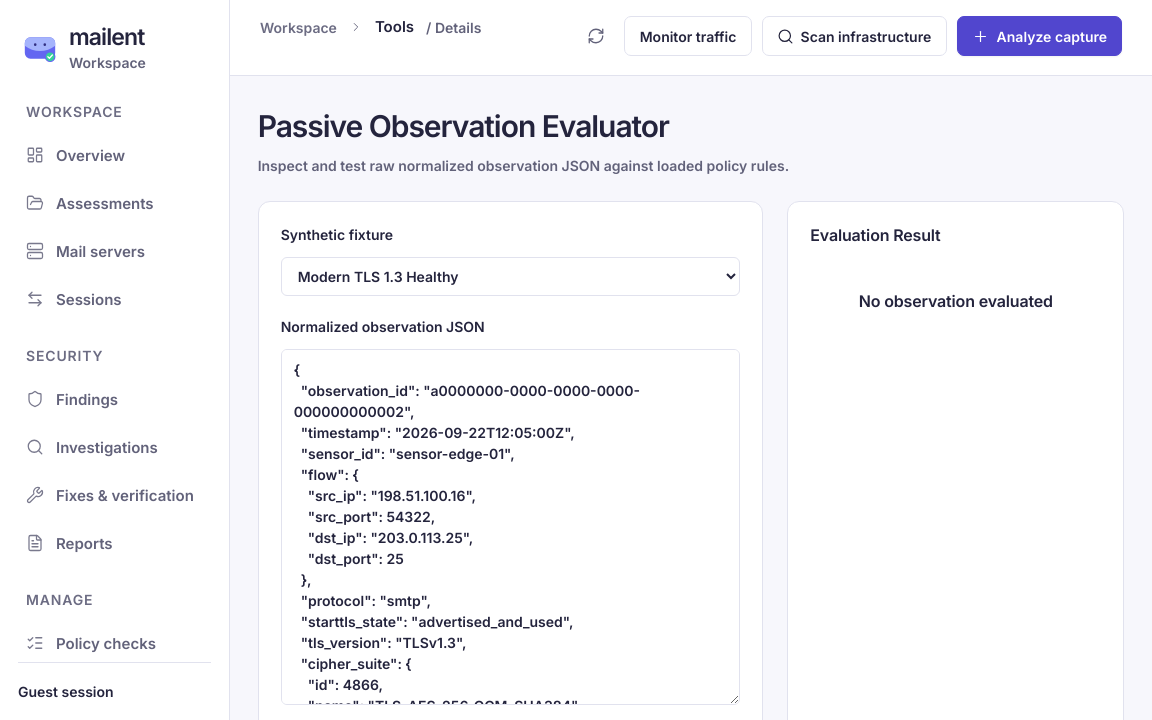
Test: observation console › renders a real response shape, clears stale results when input changes
Select "Modern TLS 1.3 Healthy" in the dropdown labelled "Synthetic fixture": (510, 276) [281,257,740,296]
(page scrolled)
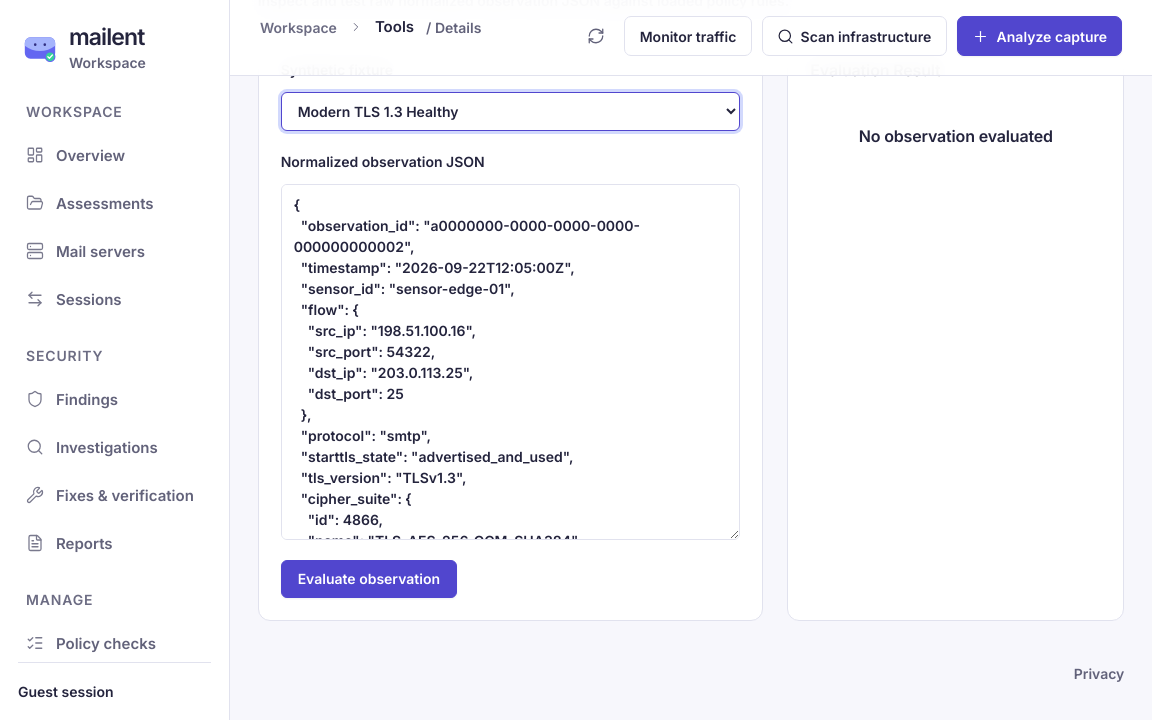
Click the button "Evaluate observation": click(369, 579) [281,560,457,598]
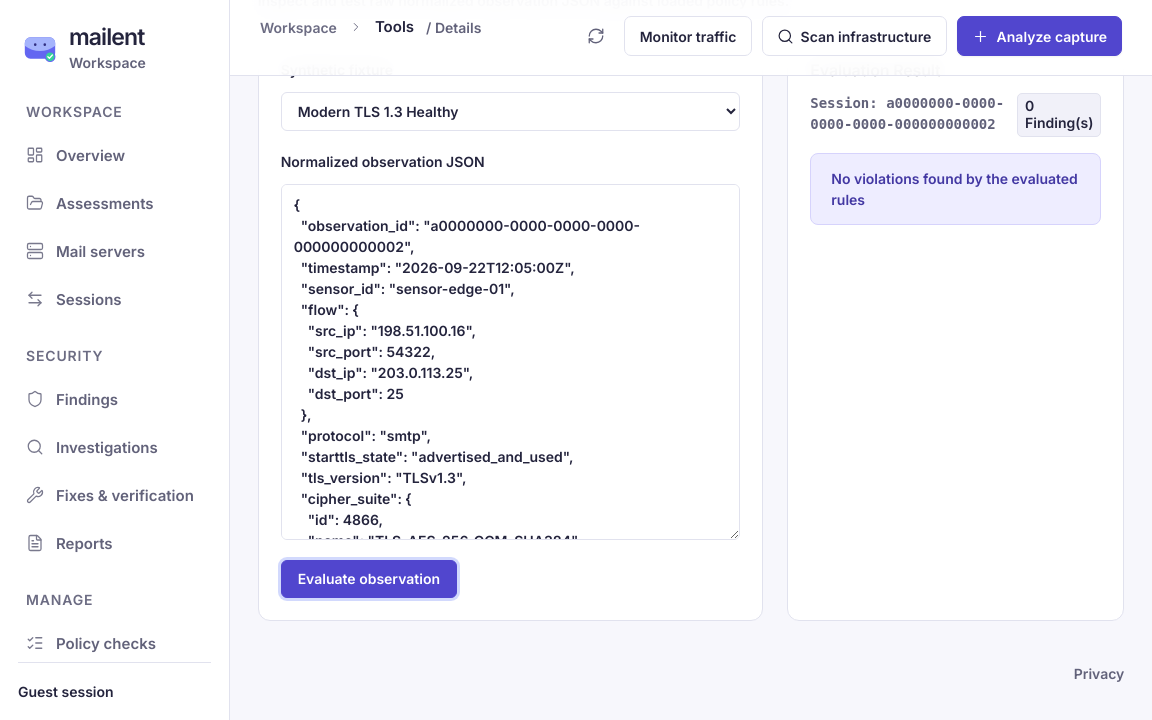
Expected: the text "No violations found by the evaluated rules" is shown, [810,153,1101,225]
Select "Legacy TLS 1.0 Negotiation" in the dropdown labelled "Synthetic fixture": (510, 112) [281,92,740,131]
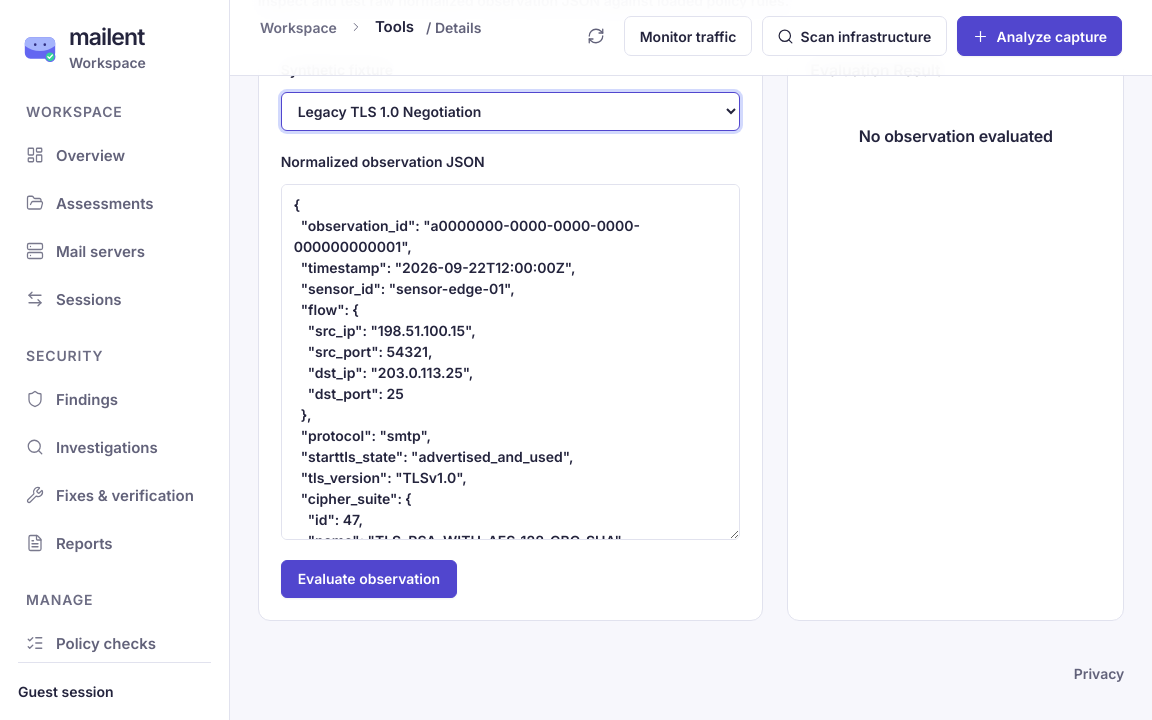
Expected: the text "No violations found by the evaluated rules" is gone
